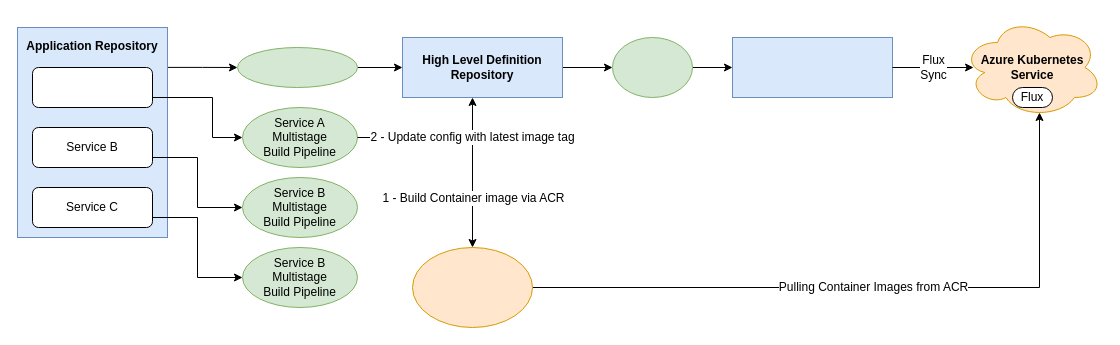
Image size: 1120x345. Some labels were removed from this diagram. Here are the shapes that lost their labels. From the top down, the centre of each, then its label:
At [92,87]: "Service A".
At [297,67]: "HLD Lifecycle Pipeline".
At [652,67]: "Manifest Generation Pipeline".
At [812,67]: "Materialized Manifests Repository".
At [472,287]: "Azure Container Registry".
